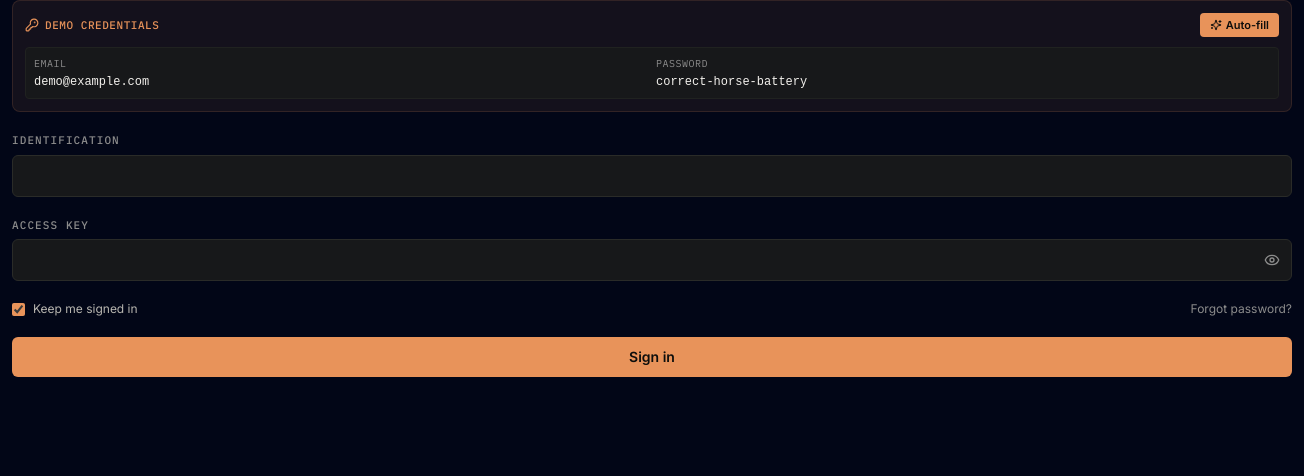
AuthForm › renders the parsed error message and suggested action on submit failure
Step 1. Type "a@example.com" into the field labelled "Identification" → (652, 176), box [12, 154, 1292, 196]
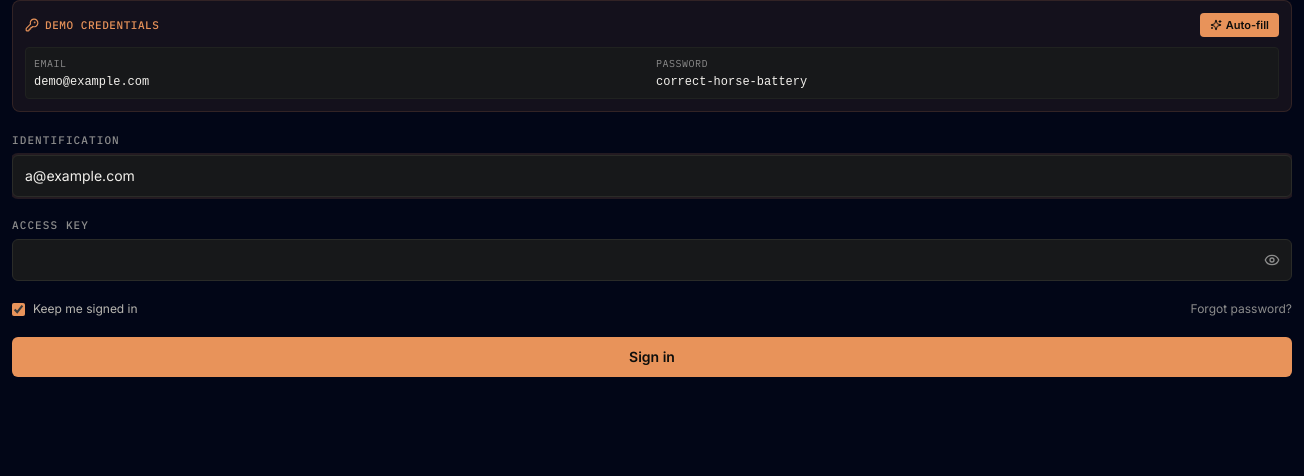
Step 2. Type "wrongpassword" into the password field labelled "Access Key" → (652, 260), box [12, 239, 1292, 281]
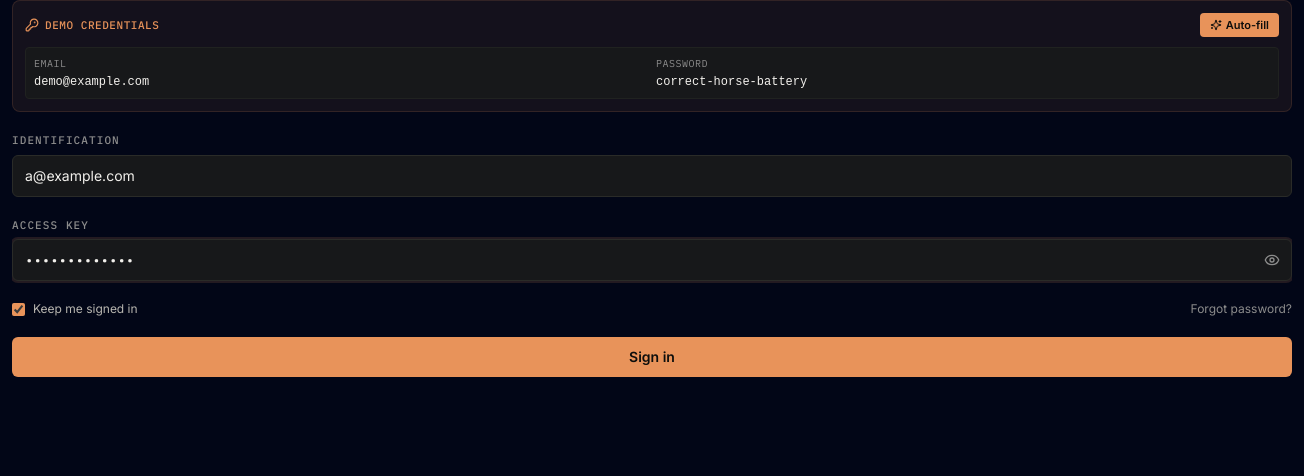
Step 3. Click the button "Sign in" → (652, 357), box [12, 337, 1292, 377]
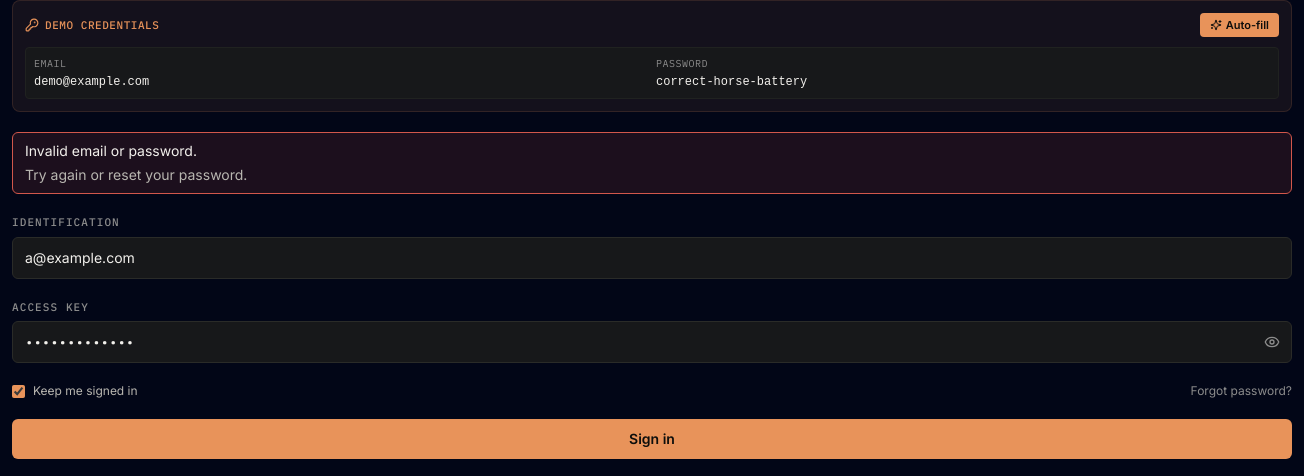
Result: the text "Invalid email or password." is shown at [25, 142, 197, 159]
Result: the text "Try again or reset your password." is shown at [25, 166, 247, 183]
